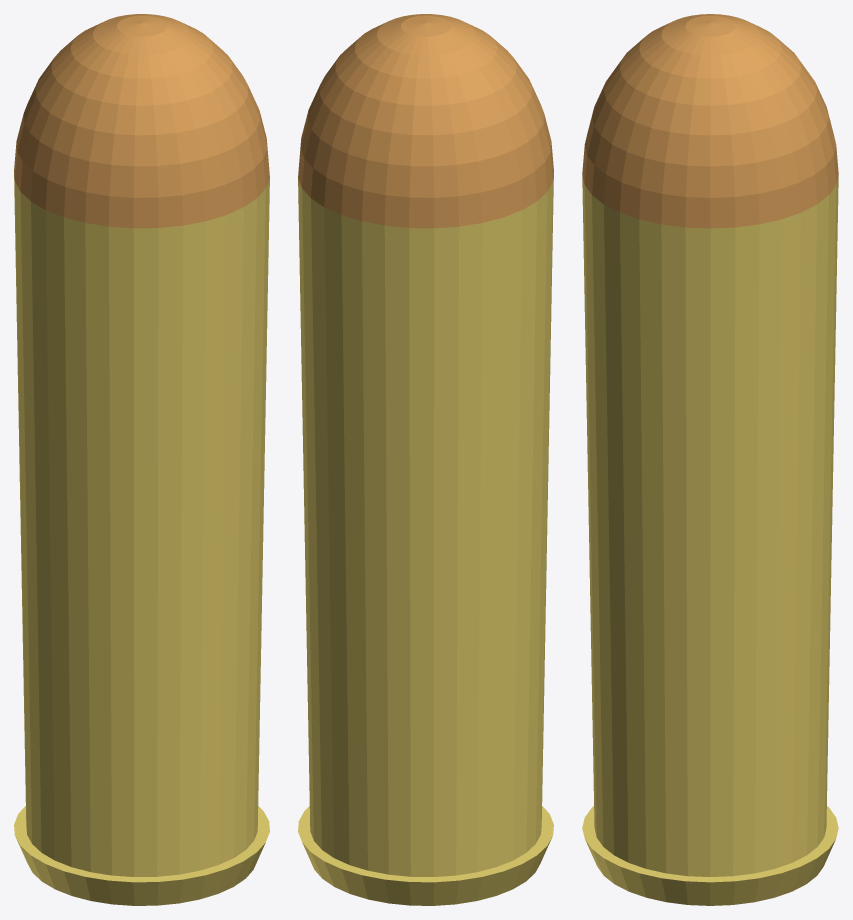
File: basic_bullet.fbx
3 renders of one model, left to right at view 1: azimuth 30°, elevation 25°; view 2: azimuth 150°, elevation 25°; view 3: azimuth 270°, elevation 25°, orthographic.
Parts seen in each view (by area): view 1: BulletBody, BulletTip; view 2: BulletBody, BulletTip; view 3: BulletBody, BulletTip.
Boxes of the visible parts, x1=… form: BulletBody: x1=14, y1=173, x2=269, y2=905; BulletTip: x1=14, y1=14, x2=269, y2=228; BulletBody: x1=298, y1=173, x2=553, y2=905; BulletTip: x1=298, y1=14, x2=553, y2=228; BulletBody: x1=582, y1=175, x2=838, y2=905; BulletTip: x1=582, y1=14, x2=838, y2=228.
Size of the model in its own units: 16 by 57.4 by 16.
